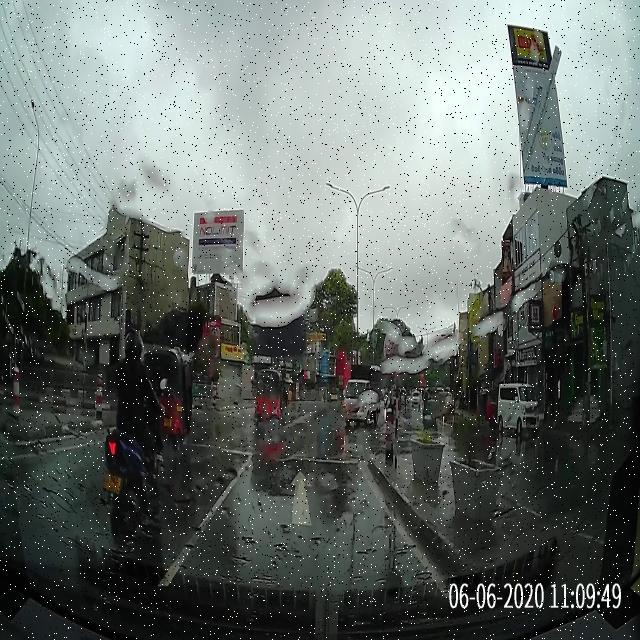forward: (203, 467, 404, 529)
